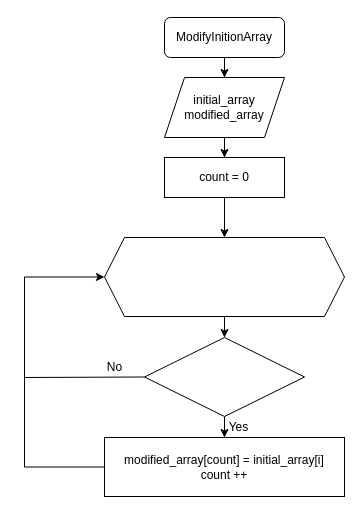
This 362x514 diagram has some shape labels left out. Here are the shapes that lost their labels. From the top down, the box of each, then its label:
(104, 236, 344, 316): for(int i = 0; i < initial_array.Length; i ++)
(144, 336, 304, 416): if (initial_array[i] <=3)
